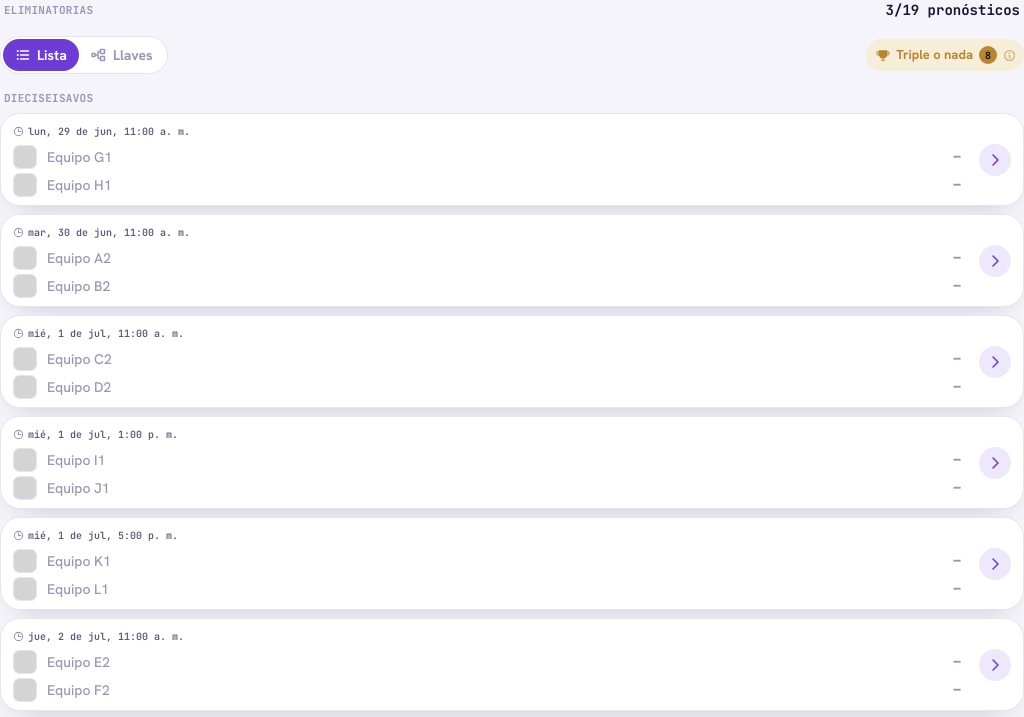
EliminatoriasPanel › tocar un partido definido abre el sheet de pronóstico
Check: the heading "Dieciseisavos" is shown, box [4,91,93,105]
Click the button with aria-label "Equipo G1 vs Equipo H1" at (109, 131), box [0,112,1023,206]
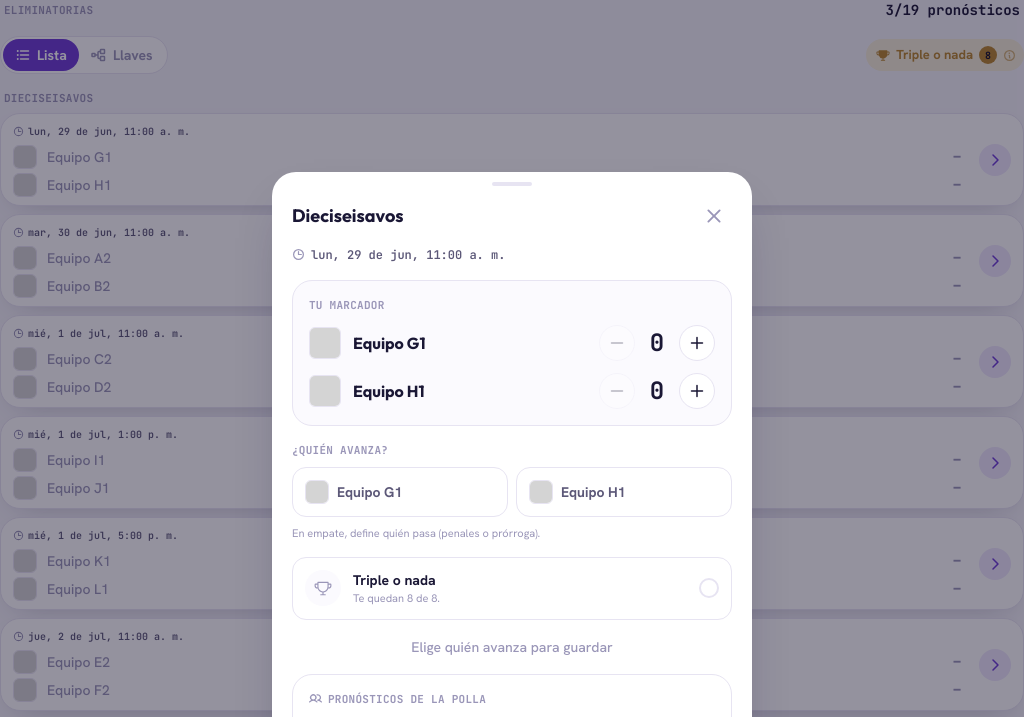
Check: the text "¿Quién avanza?" is shown, box [292,443,388,457]
Check: the text "Tu marcador" is shown, box [309,298,385,312]
